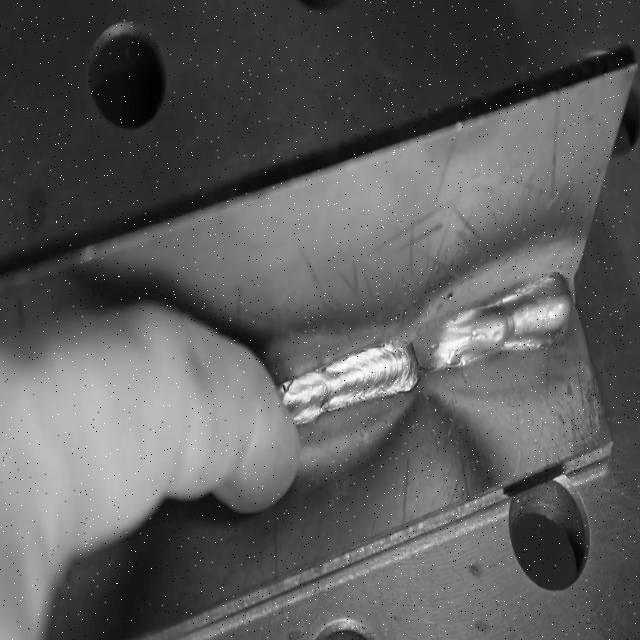Bad Welding: (279, 342, 420, 424)
Good Welding: (429, 273, 574, 369)
